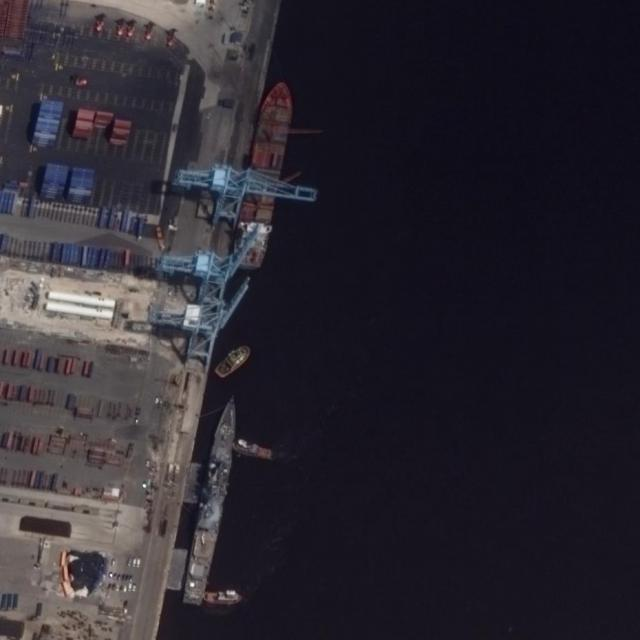Container Ship: (226, 74, 301, 273)
Cruiser: (181, 396, 243, 606)
Hovercraft: (211, 339, 254, 382)
Other Ship: (233, 437, 277, 462), (203, 590, 243, 602)
